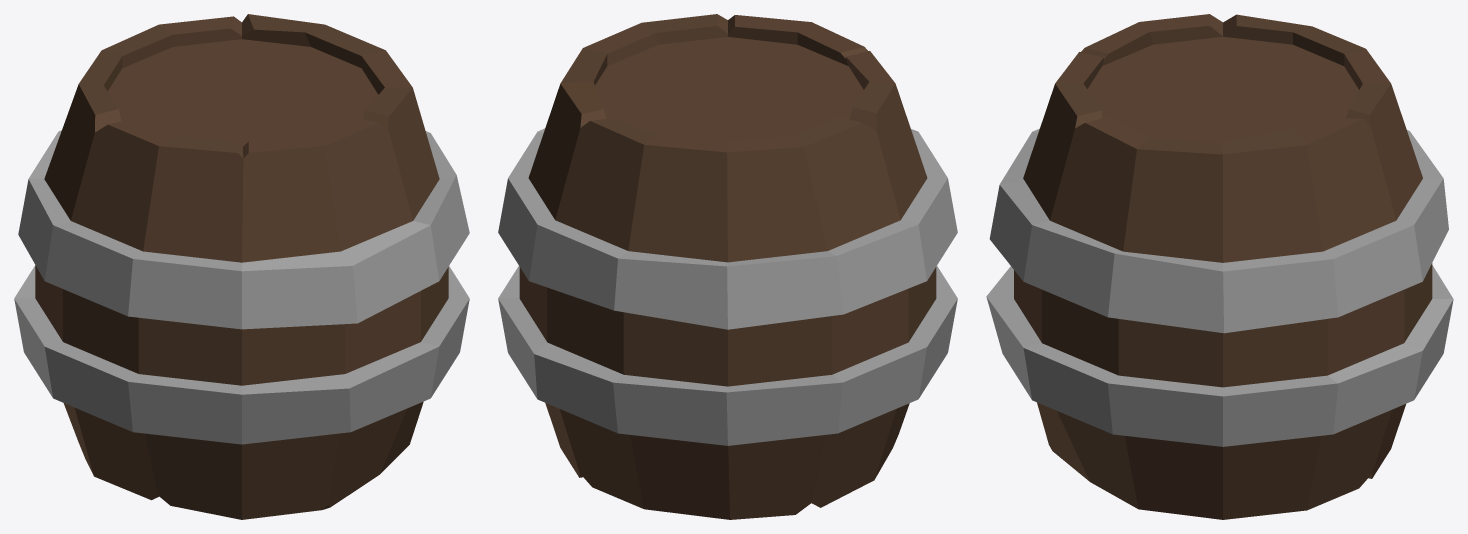
File: BarrelMD.fbx
3 views of the same model, side by side, from view 1: azimuth 30°, elevation 25°; view 2: azimuth 150°, elevation 25°; view 3: azimuth 270°, elevation 25° (orthographic).
Visible parts, largest first — view 1: Barrel; view 2: Barrel; view 3: Barrel.
Part boxes in pixels (<box>): Barrel: <box>14,14,469,519</box>; Barrel: <box>498,14,957,519</box>; Barrel: <box>986,14,1453,519</box>.
Bounding box in the file's own units: 139 × 123 × 138.
